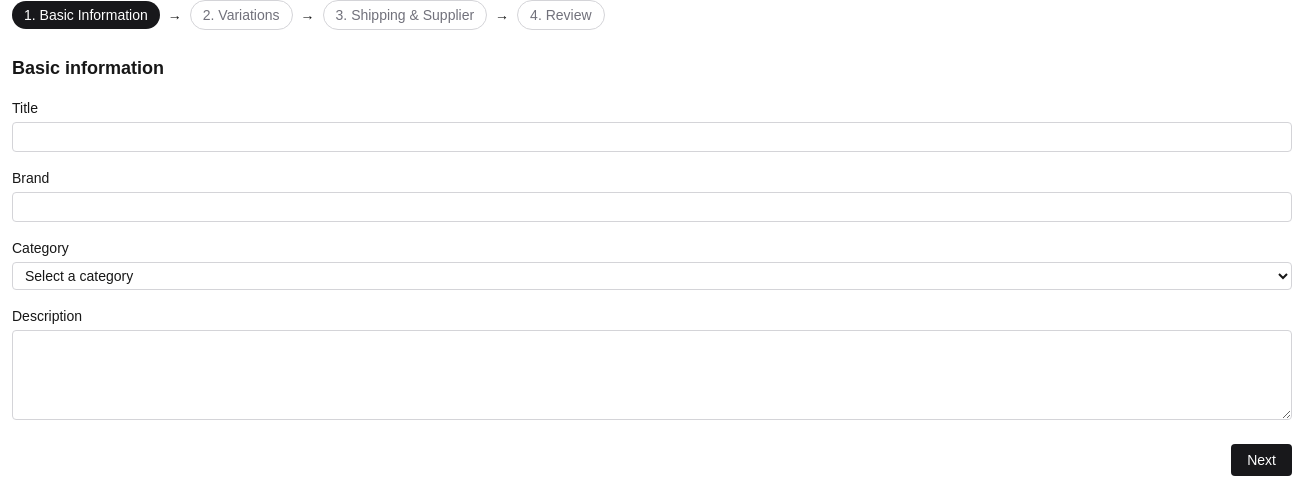
Test: ProductWizardForm navigation › keeps Step 1 values after navigating to Step 2 and back
This screenshot has width=1304, height=493.
In the field labelled "Title": (652, 137) [12,122,1292,152], type "Ergonomic Keyboard"
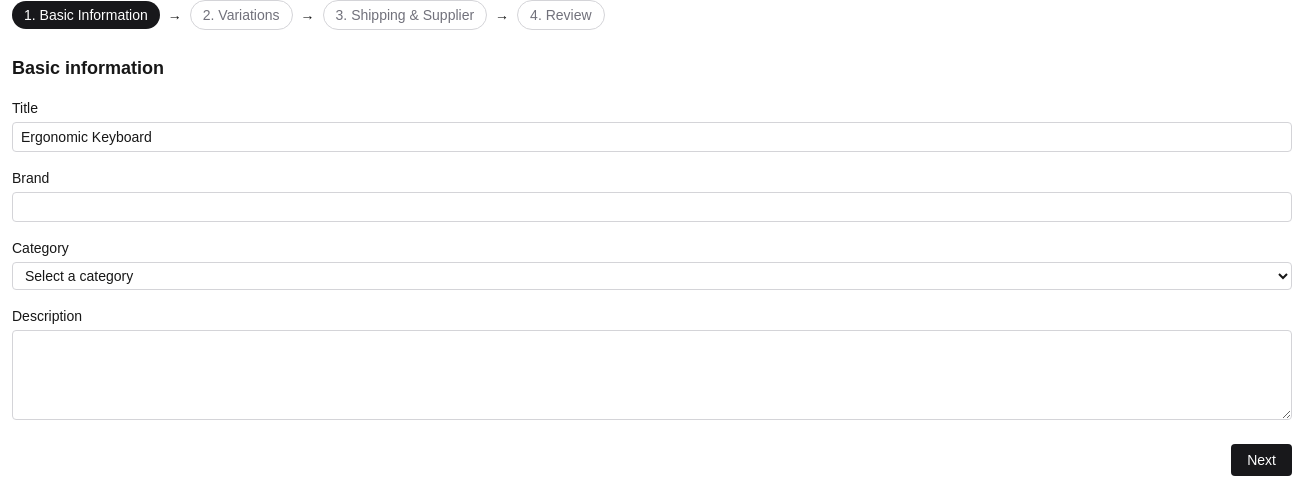
In the field labelled "Brand": (652, 207) [12,192,1292,222], type "Acme"
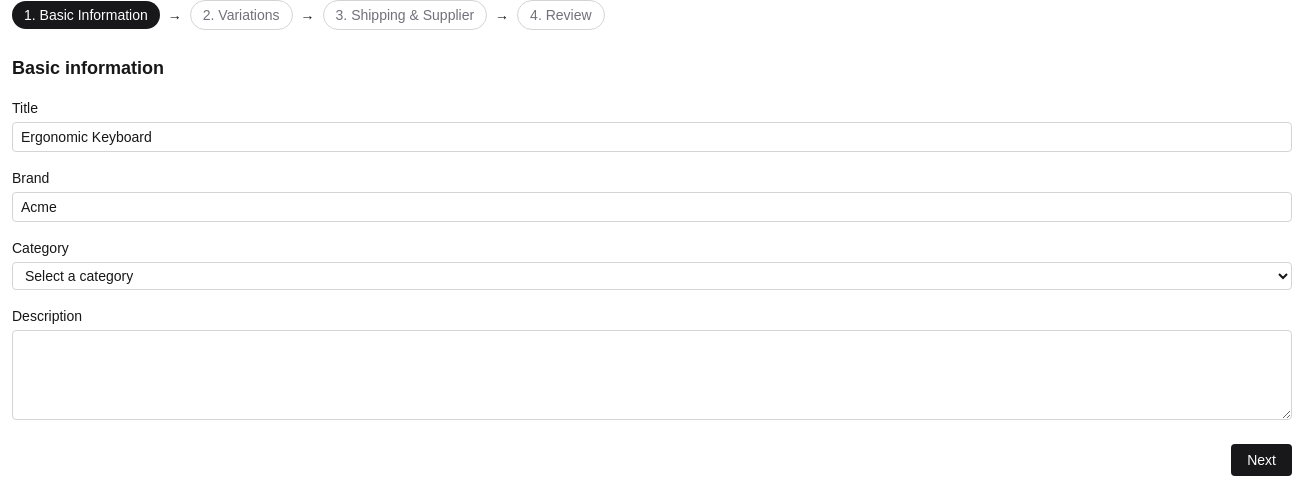
Select "Beauty" in the dropdown labelled "Category": (652, 276) [12,262,1292,290]
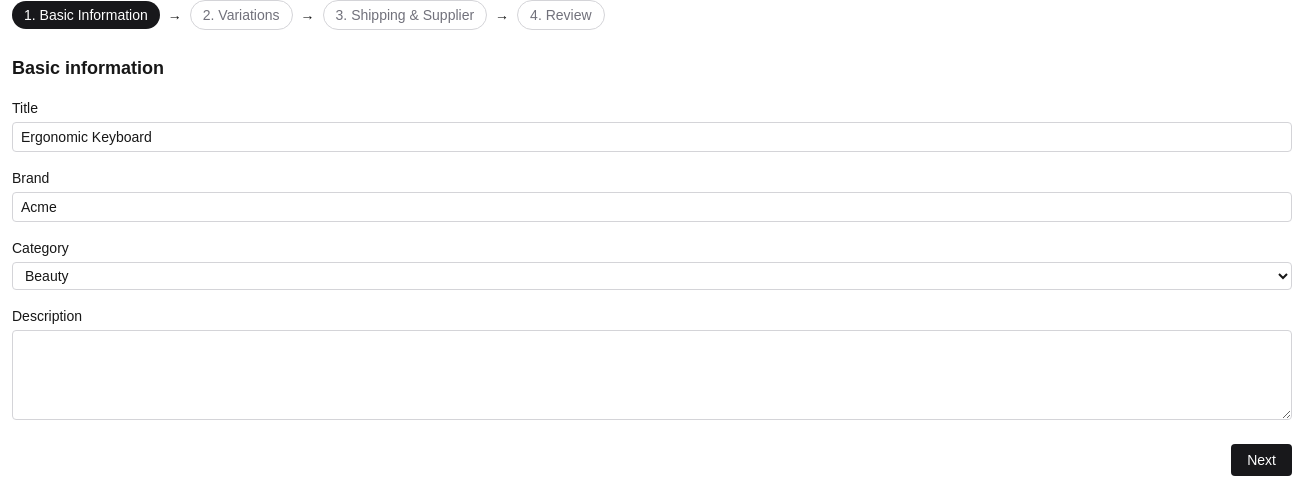
In the text box labelled "Description": (652, 375) [12,330,1292,420], type "A reliable wireless mouse with an ergonomic design and long battery life."
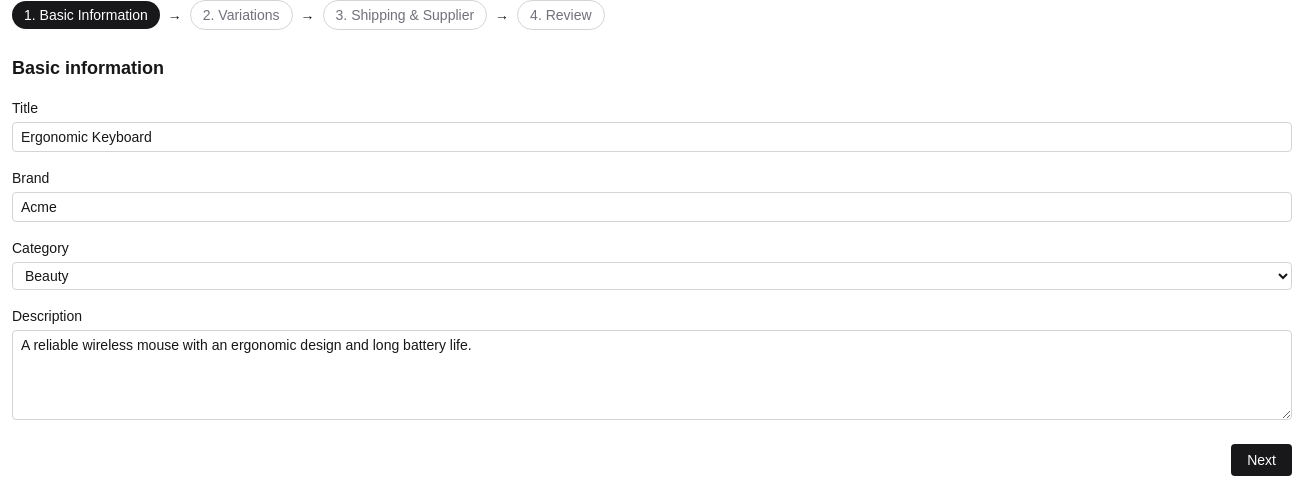
Click the button "Next": (1262, 460) [1231,444,1292,476]
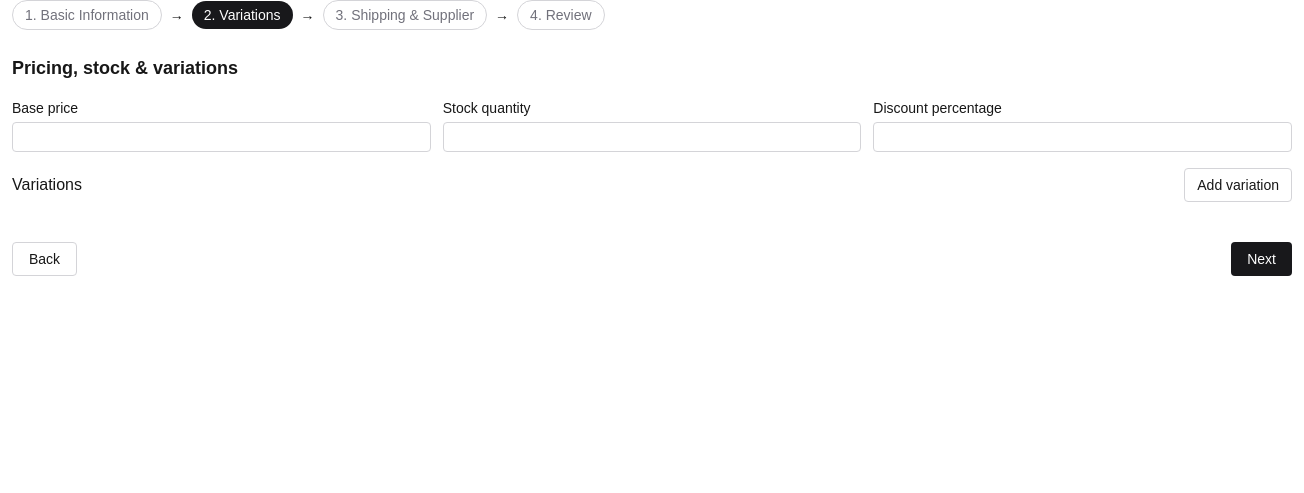
Result: the heading "Pricing, stock & variations" is shown at [12,58,238,78]
Click the button "Back": (45, 259) [12,242,77,276]
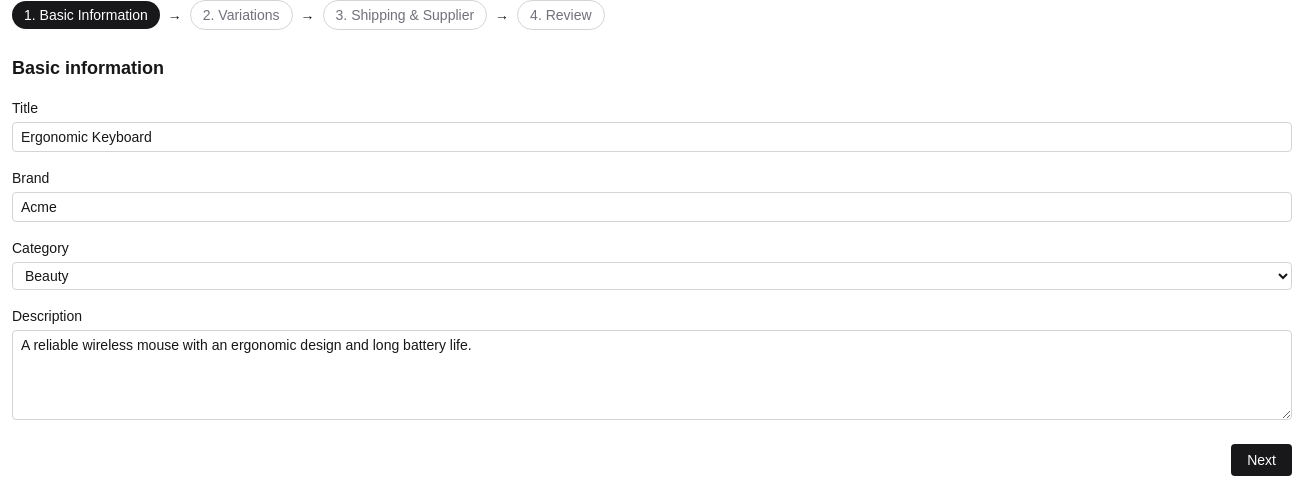
Result: the field labelled "Title" holds "Ergonomic Keyboard" at [12,122,1292,152]
Result: the field labelled "Brand" holds "Acme" at [12,192,1292,222]
Result: the dropdown labelled "Category" shows "Beauty" at [12,262,1292,290]
